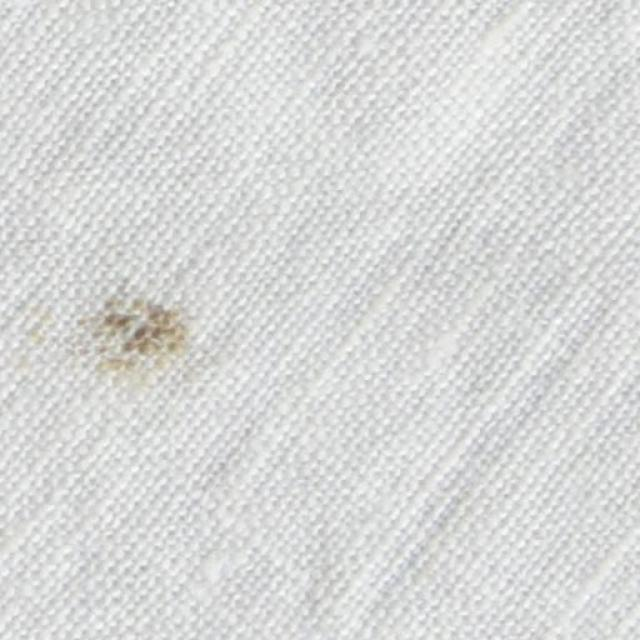Stain: (85, 288, 186, 381)
